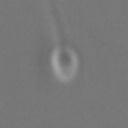normal: (44, 1, 68, 44)
